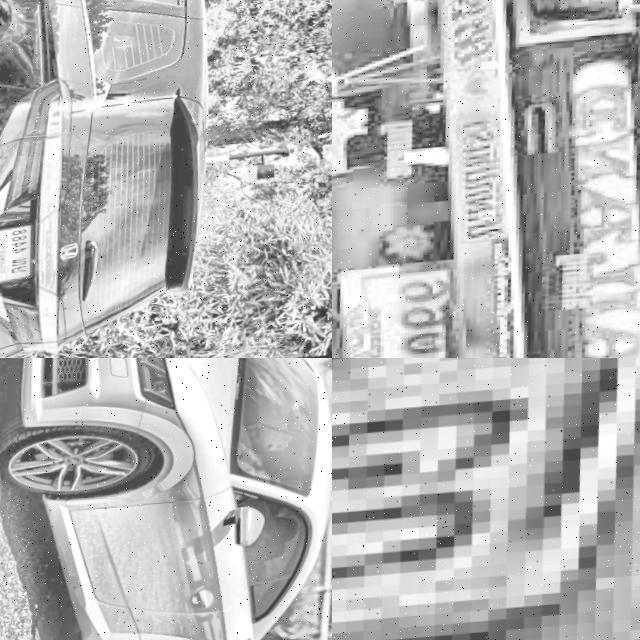license-plate: (332, 358, 640, 640), (334, 255, 500, 358), (0, 223, 48, 284)
